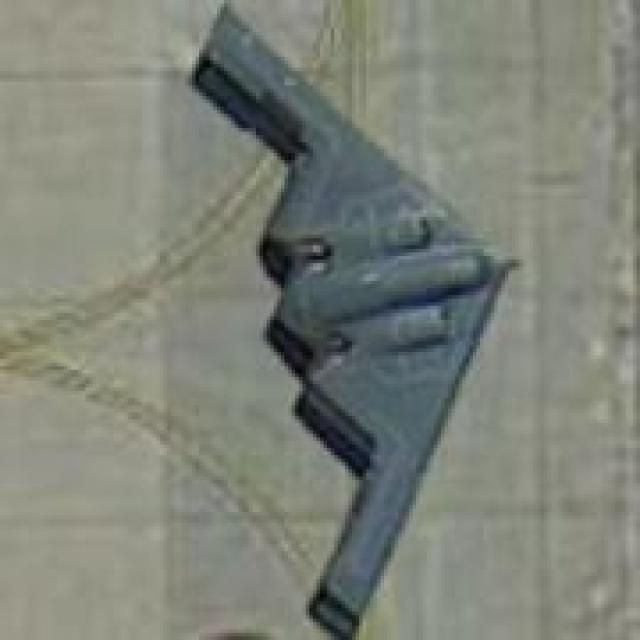B-2_TopDown: (181, 0, 522, 636)
